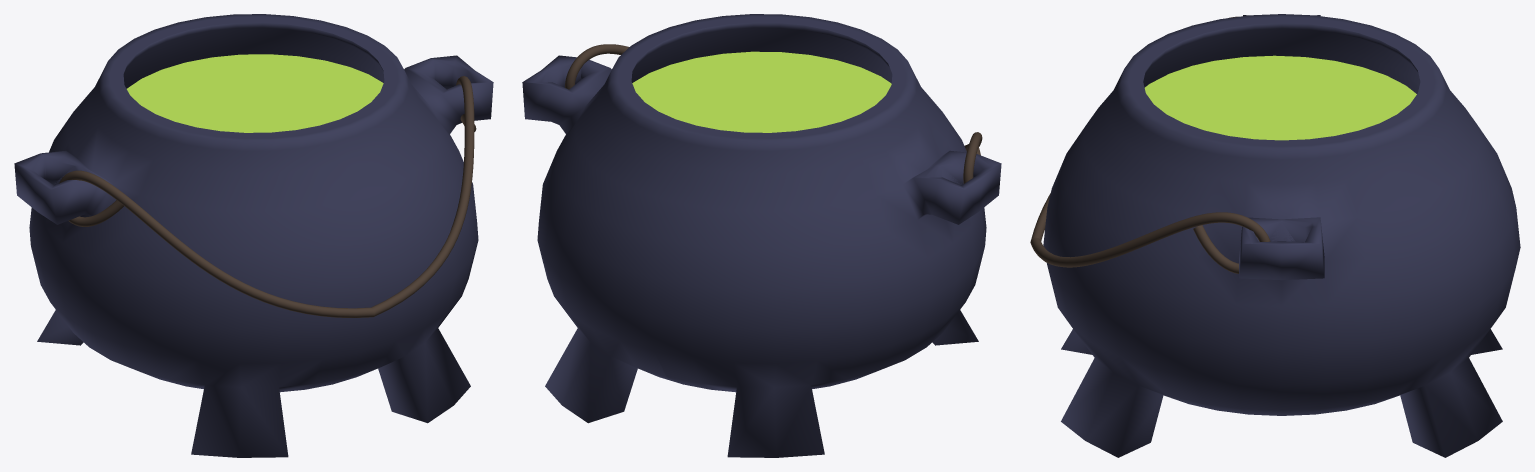
The model's file is Calderon2.gltf.
3 views of the same model, side by side, from view 1: azimuth 30°, elevation 25°; view 2: azimuth 150°, elevation 25°; view 3: azimuth 270°, elevation 25° (orthographic). The views are drawn at different scales.
Parts seen in each view (by area): view 1: Sphere, Cylinder, NurbsPath; view 2: Sphere, Cylinder, NurbsPath; view 3: Sphere, Cylinder, NurbsPath.
Boxes of the visible parts, x1=… form: Sphere: x1=14, y1=14, x2=493, y2=457; Cylinder: x1=127, y1=54, x2=383, y2=132; NurbsPath: x1=59, y1=76, x2=476, y2=317; Sphere: x1=522, y1=14, x2=1001, y2=457; Cylinder: x1=632, y1=51, x2=891, y2=132; NurbsPath: x1=565, y1=44, x2=982, y2=183; Sphere: x1=1043, y1=14, x2=1520, y2=457; Cylinder: x1=1144, y1=55, x2=1416, y2=140; NurbsPath: x1=1030, y1=16, x2=1270, y2=273.
Size of the model in its own units: 2.59 by 1.6 by 2.34.
